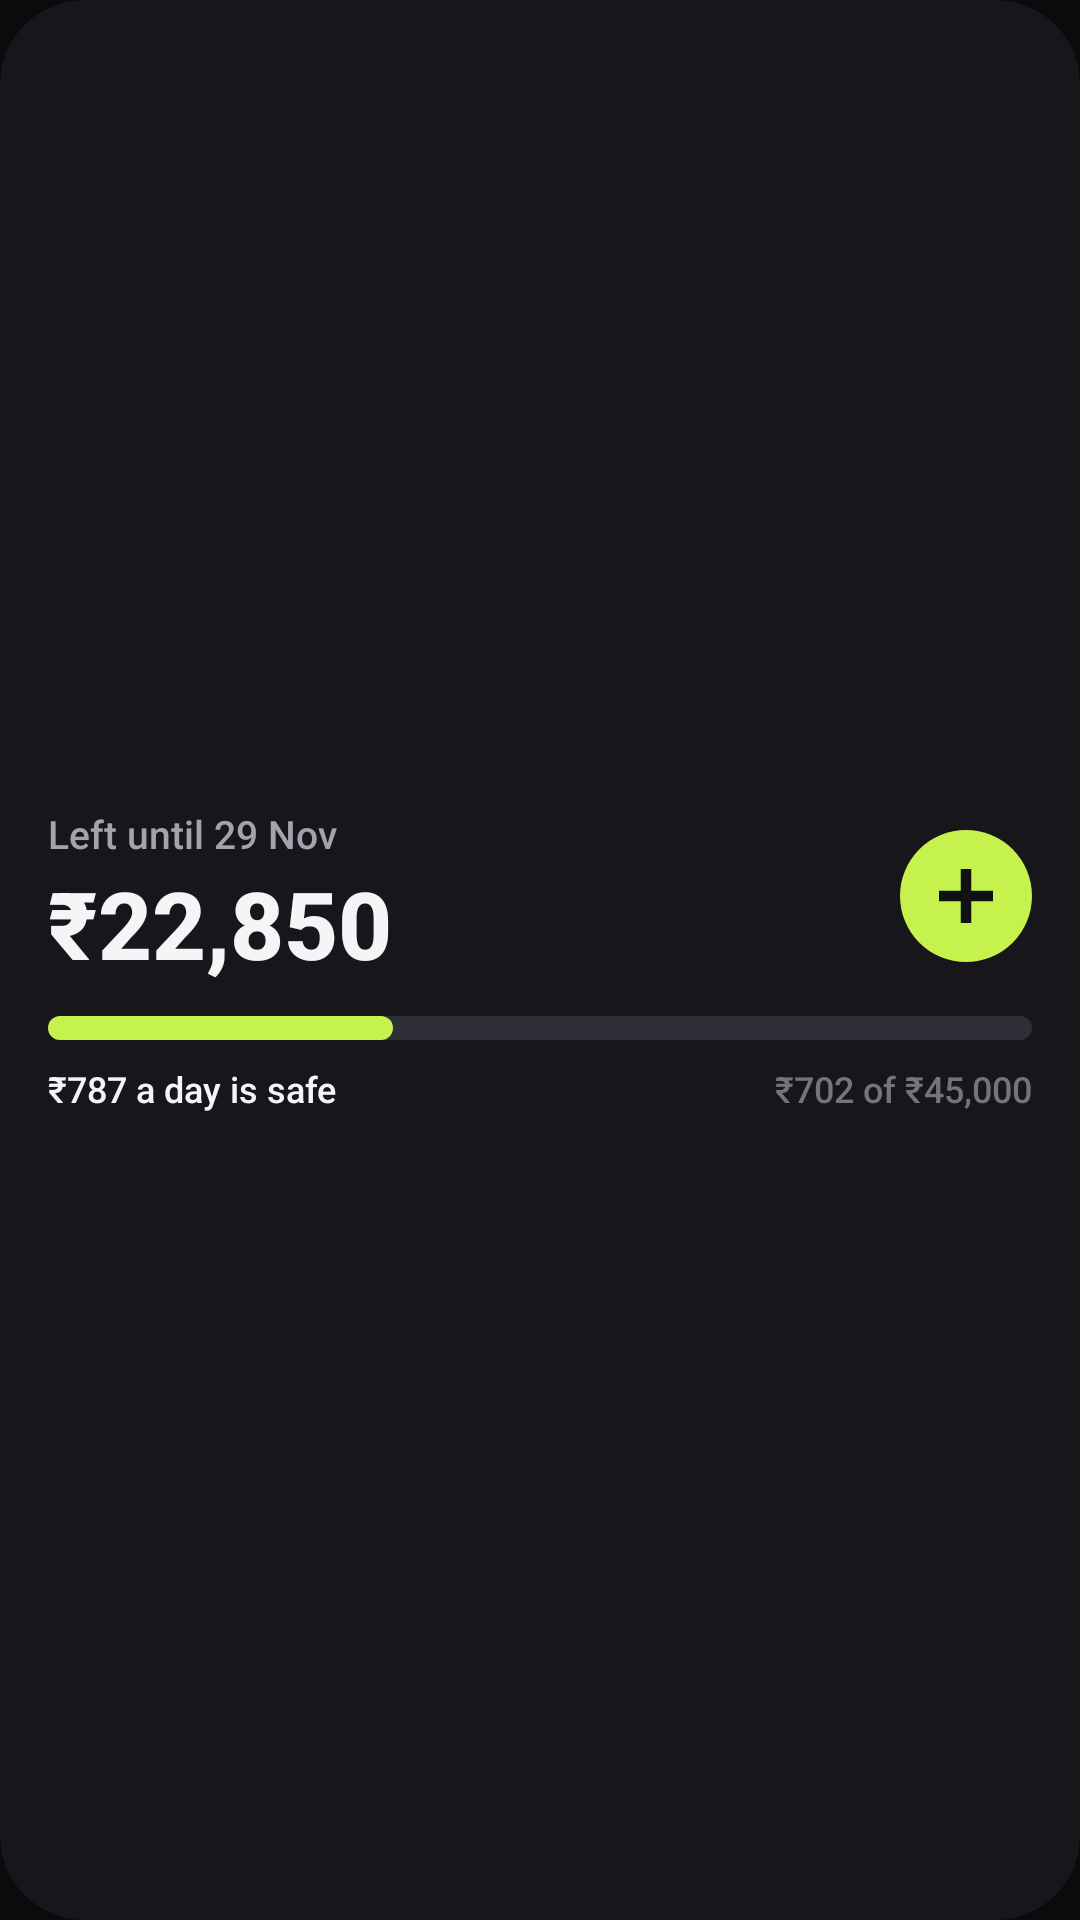

Named icons in this screenshot (1080x1920) and their centers, (x=x, y=y):
Add a payment: (x=966, y=896)
